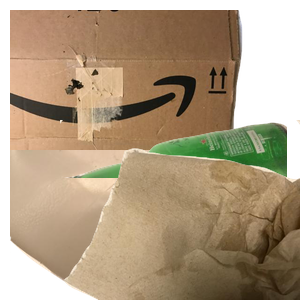cardboard: (10, 10, 245, 190)
glass: (60, 120, 300, 300)
plastic: (10, 150, 250, 300)
trash: (60, 120, 300, 300)
